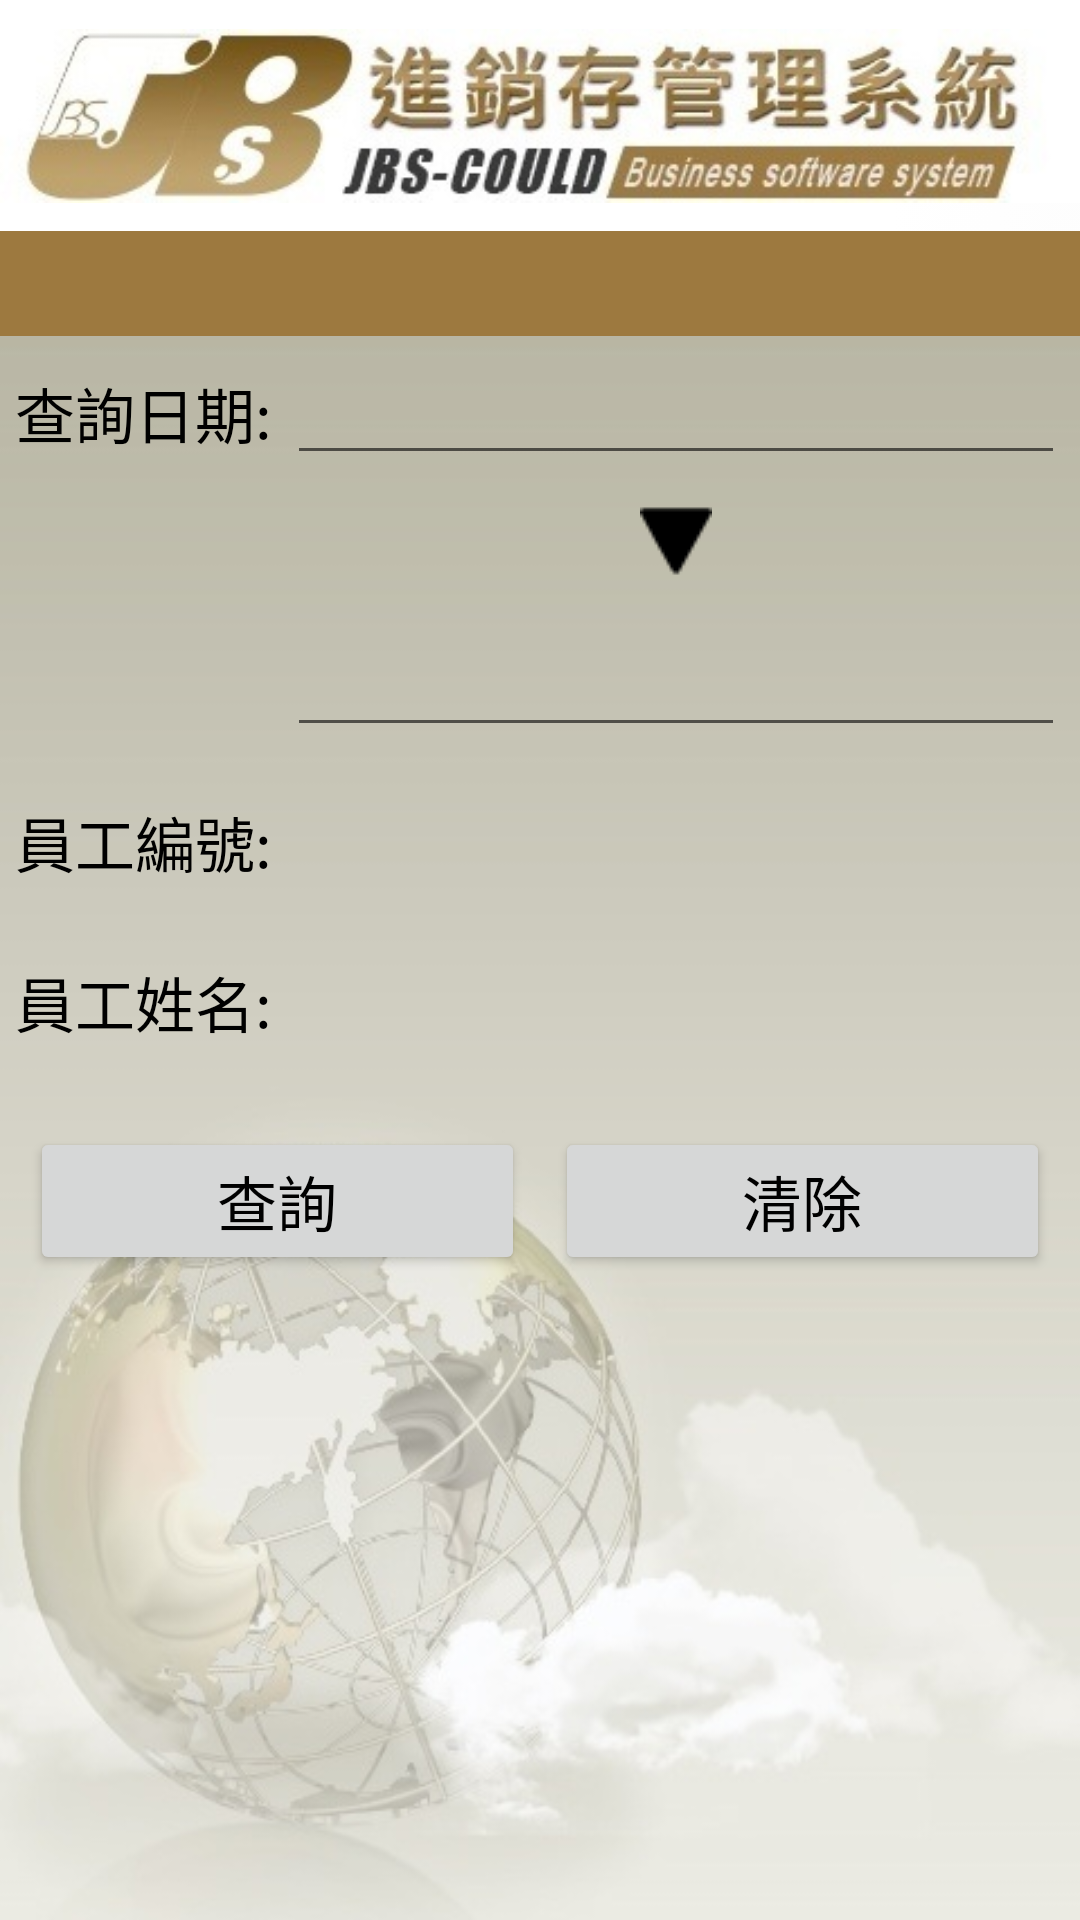

Named icons in this screenshot (1080 x 1920) and their centers, point (x, y):
down arrow: point (676, 541)
